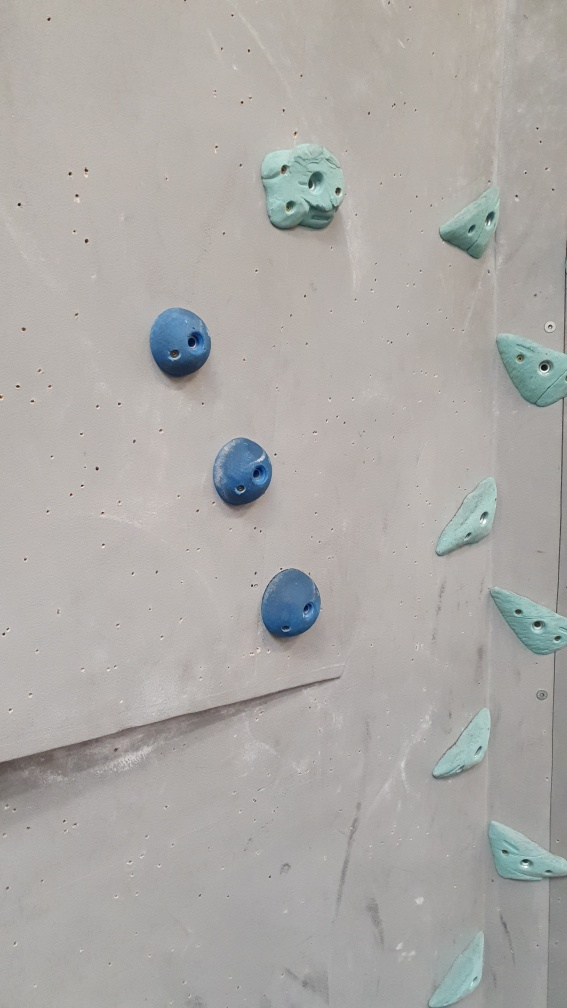Crimp: (483, 813, 567, 900), (410, 927, 490, 1008), (486, 578, 567, 657), (492, 325, 567, 409), (428, 472, 498, 561), (426, 699, 495, 785), (437, 182, 503, 260)
Sloper: (206, 432, 276, 511), (146, 304, 216, 382), (260, 566, 325, 645)
